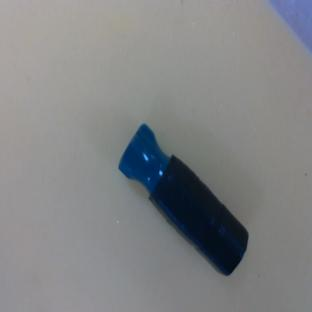part_2_bad: (107, 121, 261, 280)
